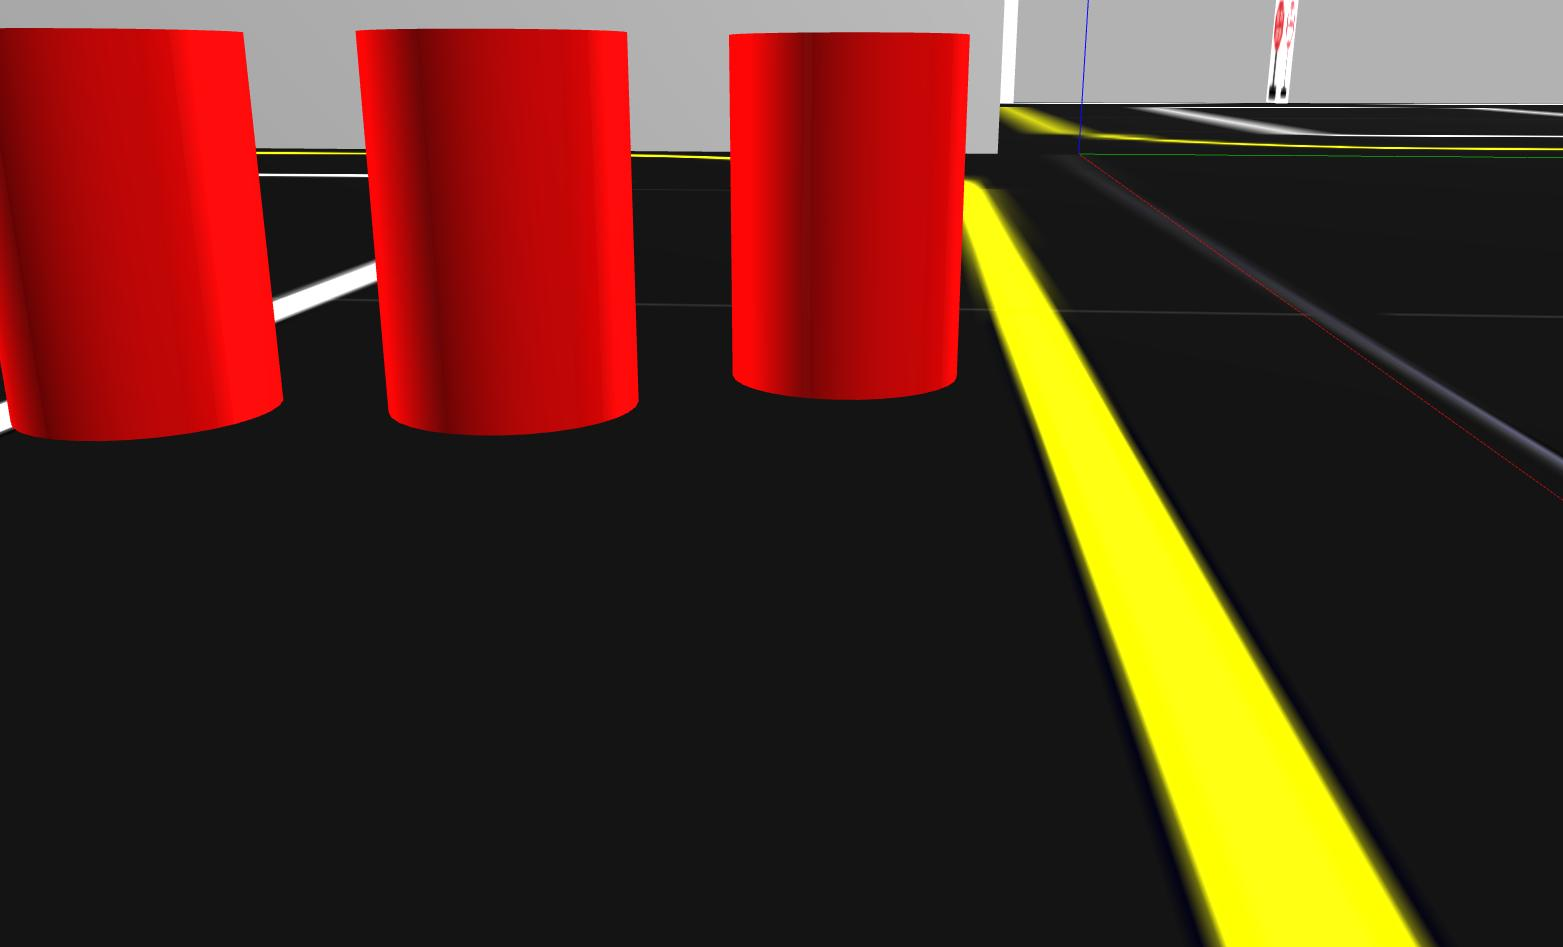obstacle: (1, 20, 303, 450), (349, 19, 651, 438), (723, 26, 969, 406)
